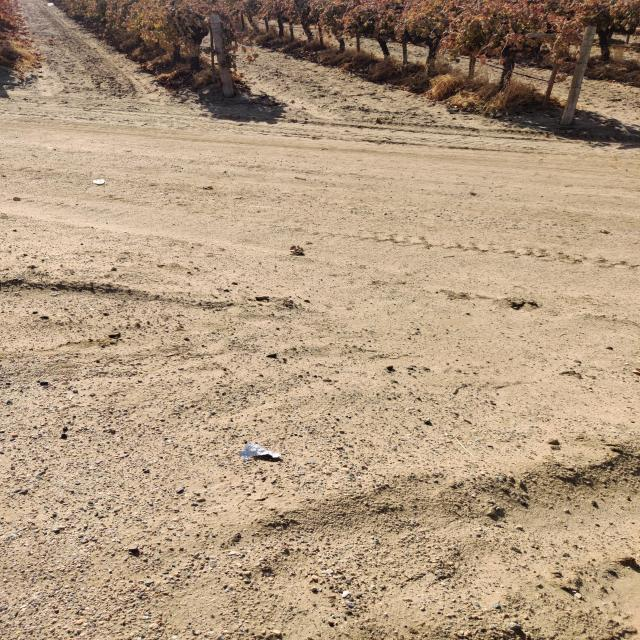litter: (238, 443, 282, 463), (93, 179, 105, 184), (47, 3, 54, 6)
